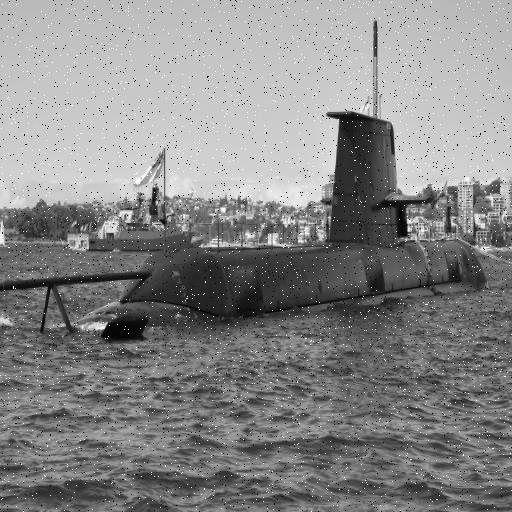submarine: (1, 113, 512, 342)
